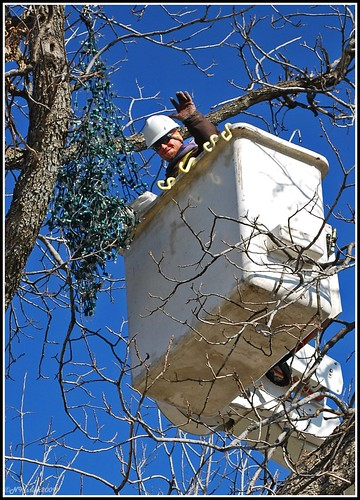person hardhat: (116, 90, 236, 192)
